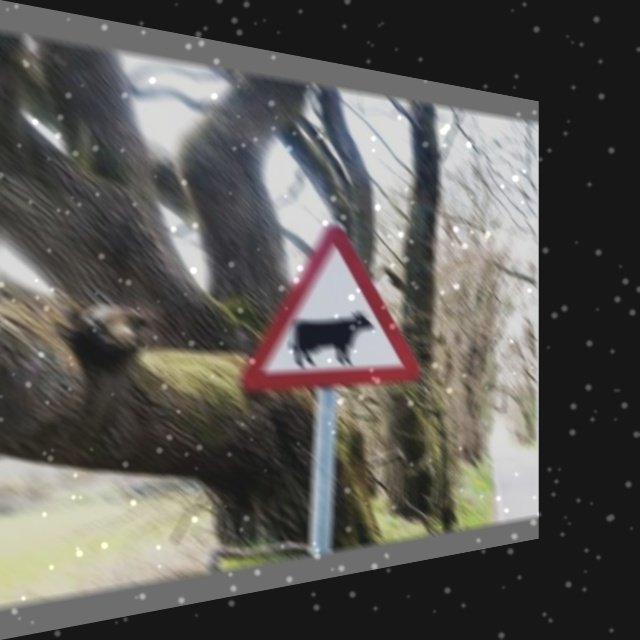Cattle: (243, 217, 424, 392)
